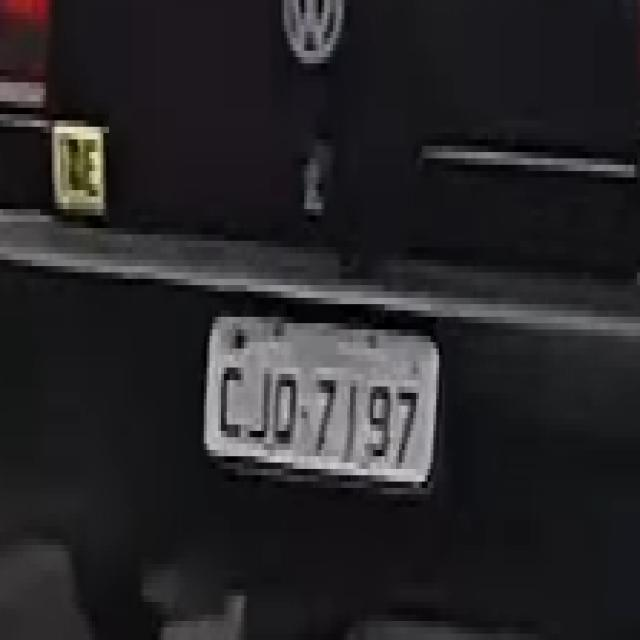Placa_mercosul_carro: (203, 315, 442, 483)
